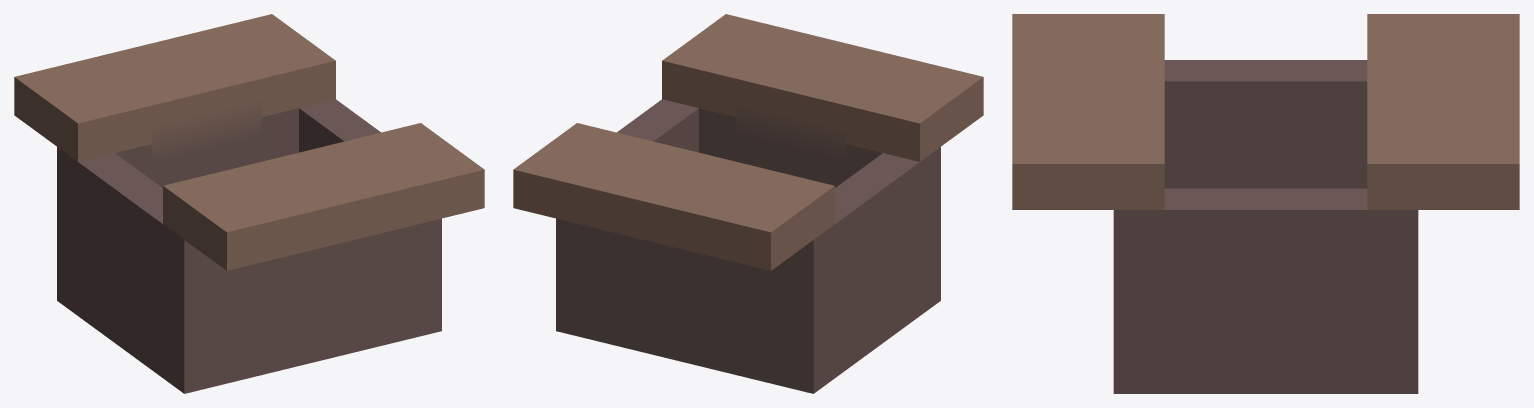
The model's file is CardboardBox-1.fbx.
3 views of the same model, side by side, from view 1: azimuth 30°, elevation 25°; view 2: azimuth 150°, elevation 25°; view 3: azimuth 270°, elevation 25° (orthographic). The views are drawn at different scales.
Parts seen in each view (by area): view 1: CardboardBox_1; view 2: CardboardBox_1; view 3: CardboardBox_1.
Boxes of the visible parts, x1=… form: CardboardBox_1: x1=14, y1=14, x2=484, y2=393; CardboardBox_1: x1=513, y1=14, x2=983, y2=393; CardboardBox_1: x1=1012, y1=14, x2=1519, y2=393.
Size of the model in its own units: 70 by 50 by 100.
1 material, 1 textured.
